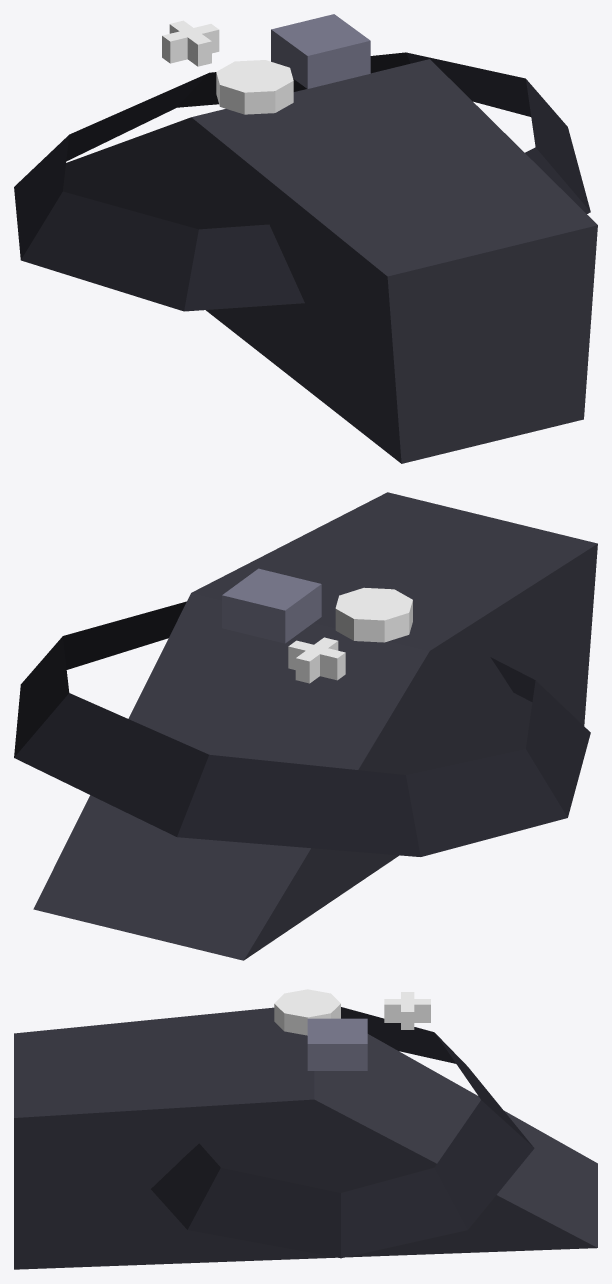
The model's file is psvr2_sense_right.obj.
3 renders of one model, top to bottom at view 1: azimuth 30°, elevation 25°; view 2: azimuth 150°, elevation 25°; view 3: azimuth 270°, elevation 25°, orthographic. The views are drawn at different scales.
Parts seen in each view (by area): view 1: psvr2_sense_right; view 2: psvr2_sense_right; view 3: psvr2_sense_right.
Boxes of the visible parts, x1=… form: psvr2_sense_right: x1=14, y1=14, x2=597, y2=463; psvr2_sense_right: x1=14, y1=492, x2=597, y2=960; psvr2_sense_right: x1=14, y1=989, x2=597, y2=1269.
Size of the model in its own units: 0.156 by 0.07 by 0.175.
1 material, 1 textured.
